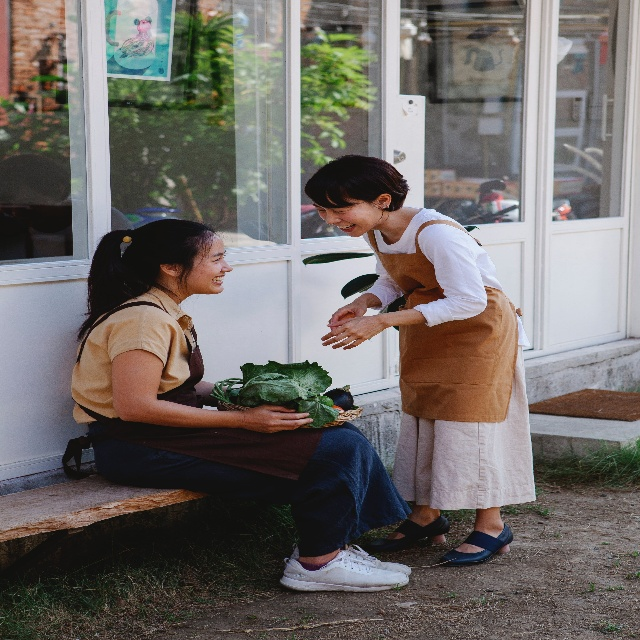Sin_guantes: (321, 315, 383, 350), (242, 405, 313, 434), (328, 296, 367, 332)
